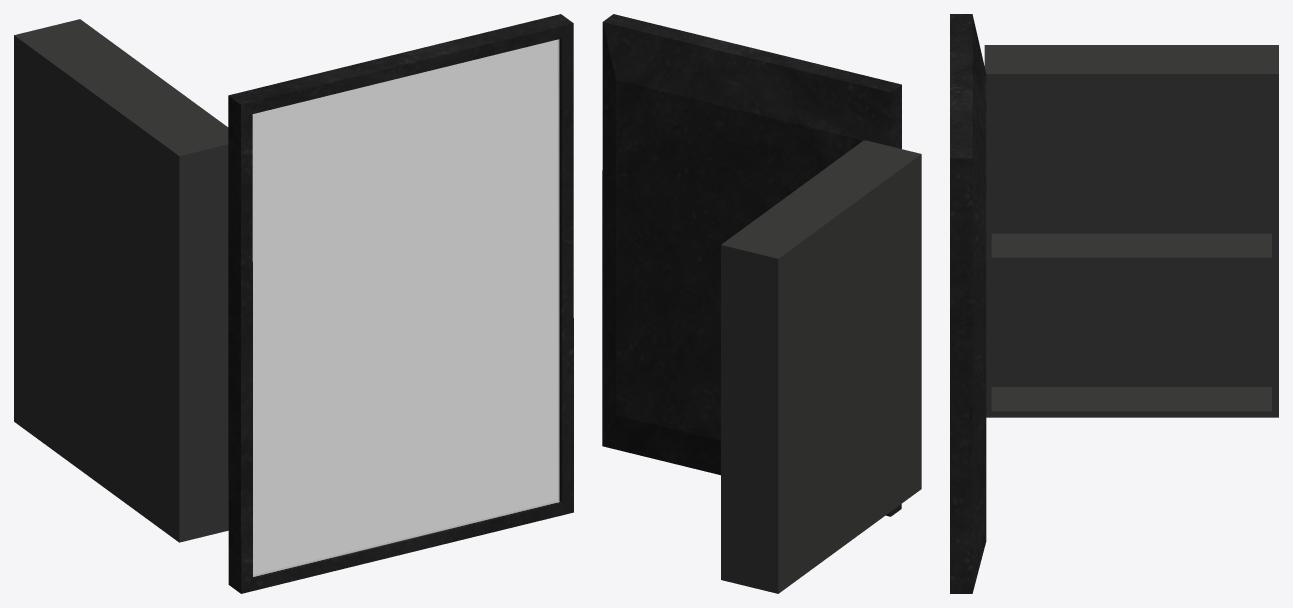
Rendered from Mirror.fbx.
3 views of the same model, side by side, from view 1: azimuth 30°, elevation 25°; view 2: azimuth 150°, elevation 25°; view 3: azimuth 270°, elevation 25° (orthographic). The views are drawn at different scales.
Visible parts, largest first — view 1: Cube.001, Cube.002; view 2: Cube.002, Cube.001; view 3: Cube.002, Cube.001.
Part boxes in pixels (x1,y1,x2,y2): Cube.001: (228,14,573,593); Cube.002: (14,19,228,542); Cube.002: (721,140,921,593); Cube.001: (602,14,901,516); Cube.002: (984,45,1278,417); Cube.001: (950,14,986,593).
Bounding box in the file's own units: 262 × 327 × 224.
